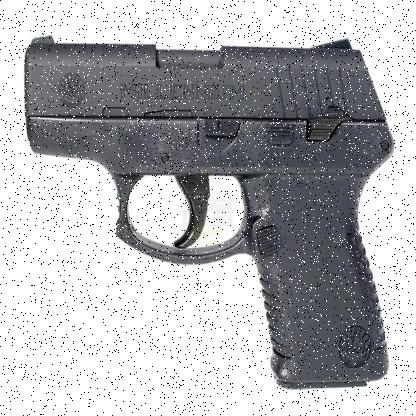pistol: (25, 31, 392, 392)
